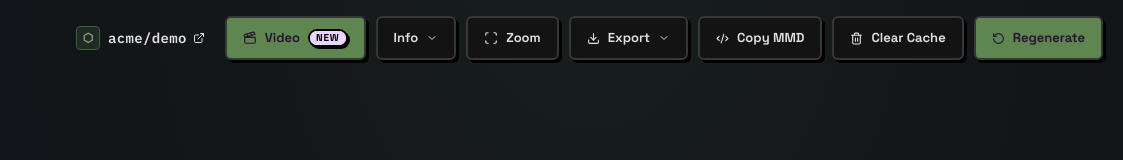
Test: repository generation workspace › keeps the diagram as the default view and opens the explainer video on request
This screenshot has width=1123, height=160.
Expected: the text "explainer panel" is not shown
Click the button "Video NEW" at (295, 38), box top-left (225, 16), bottom-right (366, 60)
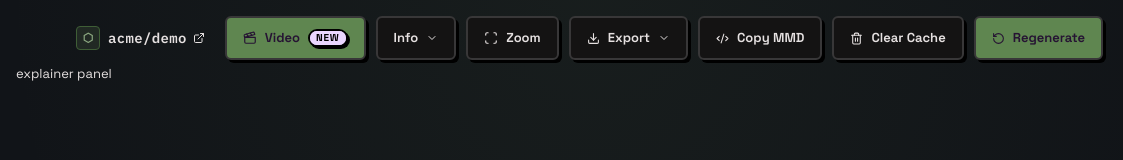
Expected: the text "explainer panel" is shown, top-left (16, 65), bottom-right (112, 82)
Click the button "Video NEW" at (295, 38), box top-left (225, 16), bottom-right (366, 60)
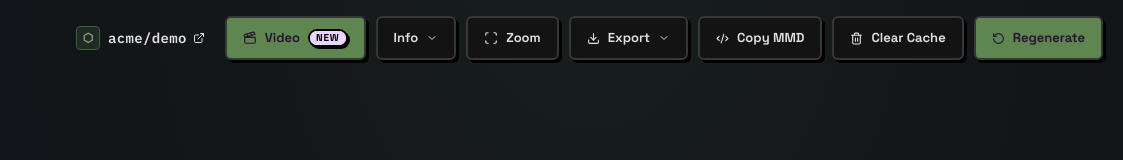
Expected: the text "explainer panel" is gone
